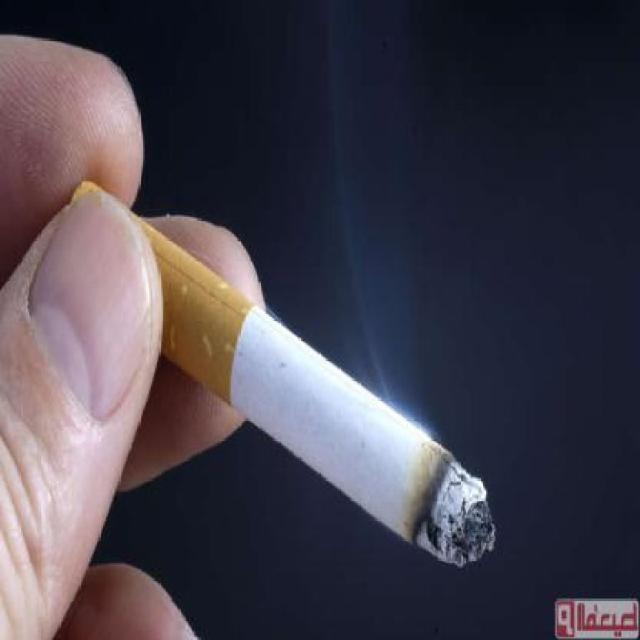cigarette: (72, 175, 503, 571)
